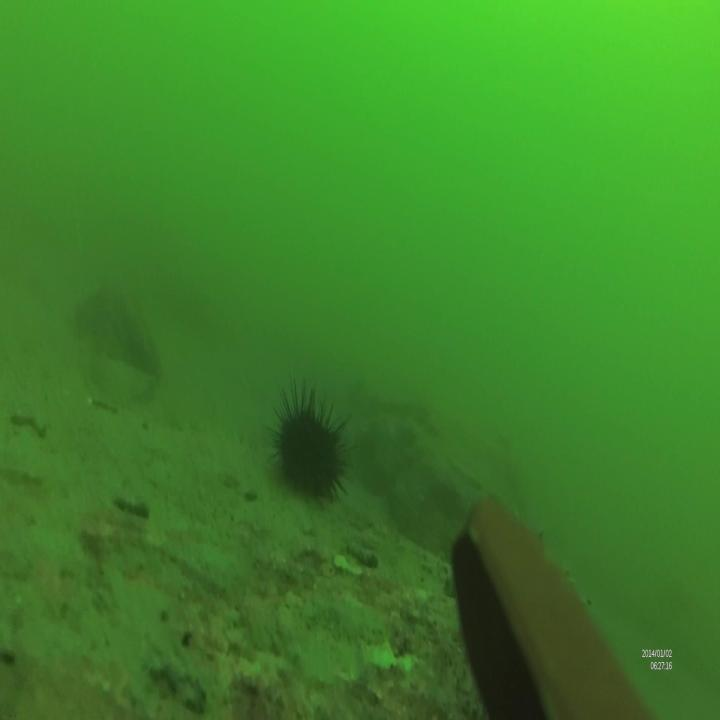echinus: (270, 376, 356, 506)
